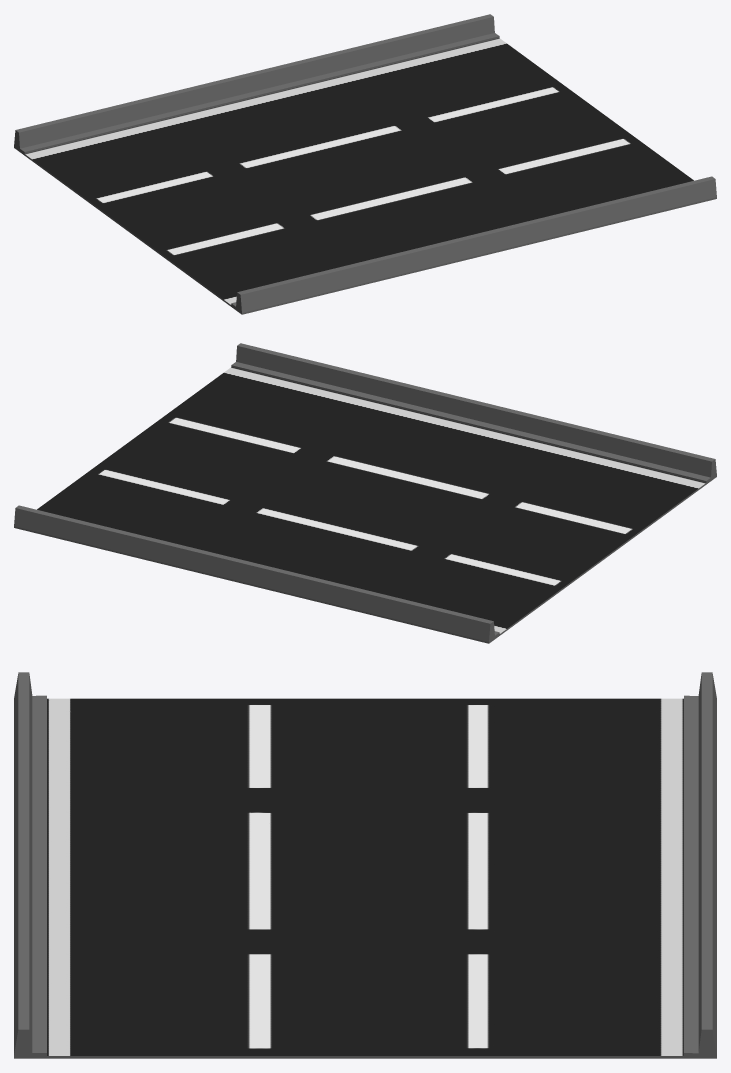
File: smallroadstraight.FBX
3 views of the same model, one above another, from view 1: azimuth 30°, elevation 25°; view 2: azimuth 150°, elevation 25°; view 3: azimuth 270°, elevation 25° (orthographic). The views are drawn at different scales.
Visible parts, largest first — view 1: Box001; view 2: Box001; view 3: Box001.
Part boxes in pixels (x1,y1,x2,y2): Box001: (14,14,716,314); Box001: (14,343,716,643); Box001: (14,672,716,1058).
Size of the model in its own units: 873 by 33.2 by 726.
